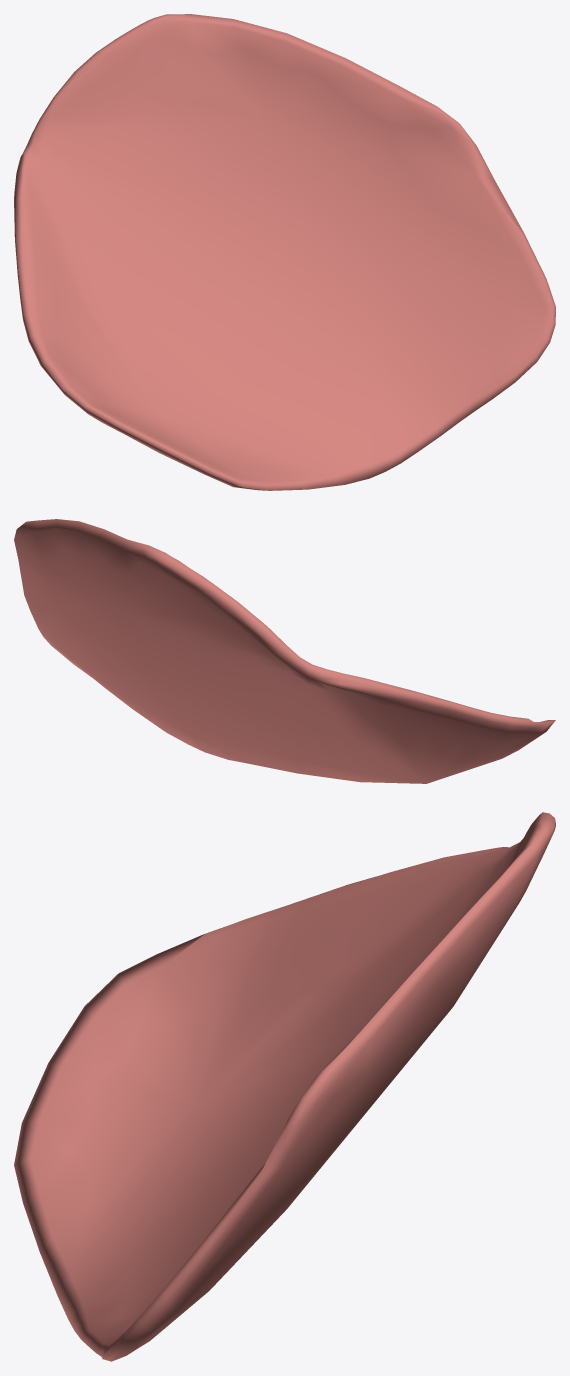
3 views of the same model, one above another, from view 1: azimuth 30°, elevation 25°; view 2: azimuth 150°, elevation 25°; view 3: azimuth 270°, elevation 25° (orthographic). The views are drawn at different scales.
Visible parts, largest first — view 1: ZA_13ff078241c447a8; view 2: ZA_13ff078241c447a8; view 3: ZA_13ff078241c447a8.
Boxes of the visible parts, left/top/right/bottom form: ZA_13ff078241c447a8: left=14, top=14, right=555, bottom=490; ZA_13ff078241c447a8: left=14, top=519, right=555, bottom=783; ZA_13ff078241c447a8: left=14, top=812, right=555, bottom=1361.
Bounding box in the file's own units: 0.0192 × 0.0129 × 0.0134.
